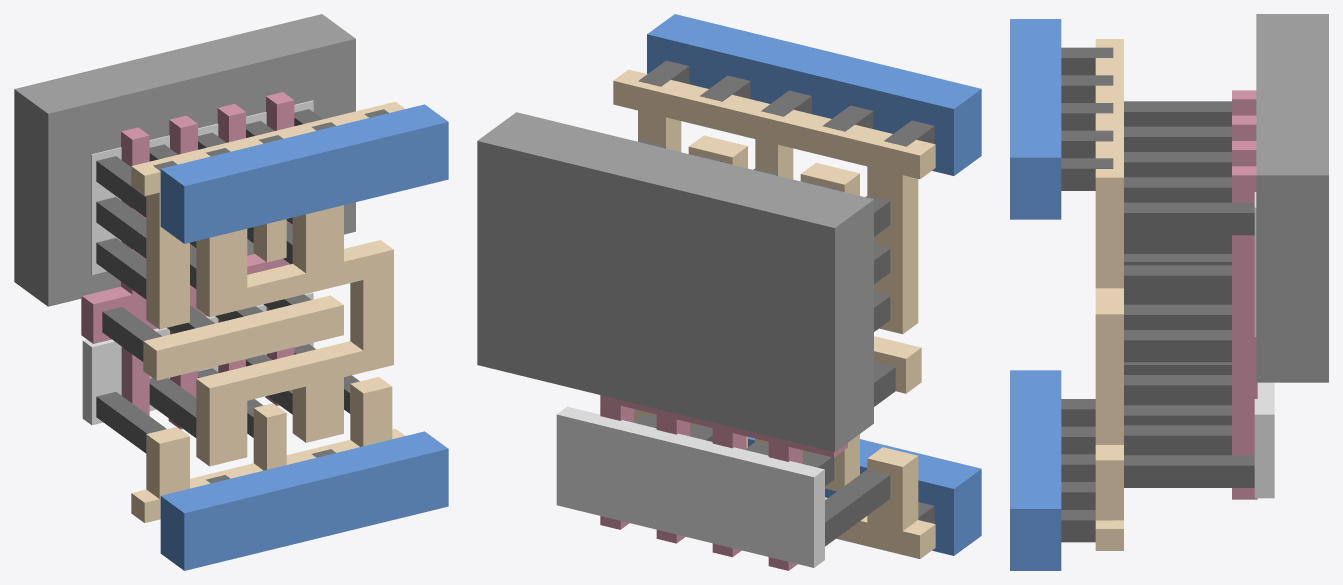
File: sky130_fd_sc_hd__inv_4.gds.gltf
3 views of the same model, side by side, from view 1: azimuth 30°, elevation 25°; view 2: azimuth 150°, elevation 25°; view 3: azimuth 270°, elevation 25° (orthographic). The views are drawn at different scales.
Parts seen in each view (by area): view 1: sky130_fd_sc_hd__inv_4_li1, sky130_fd_sc_hd__inv_4_met1, sky130_fd_sc_hd__inv_4_nwell, sky130_fd_sc_hd__inv_4_licon, sky130_fd_sc_hd__inv_4_poly, sky130_fd_sc_hd__inv_4_diff, sky130_fd_sc_hd__inv_4_mcon; view 2: sky130_fd_sc_hd__inv_4_nwell, sky130_fd_sc_hd__inv_4_li1, sky130_fd_sc_hd__inv_4_diff, sky130_fd_sc_hd__inv_4_met1, sky130_fd_sc_hd__inv_4_licon, sky130_fd_sc_hd__inv_4_poly, sky130_fd_sc_hd__inv_4_mcon; view 3: sky130_fd_sc_hd__inv_4_licon, sky130_fd_sc_hd__inv_4_nwell, sky130_fd_sc_hd__inv_4_met1, sky130_fd_sc_hd__inv_4_li1, sky130_fd_sc_hd__inv_4_mcon, sky130_fd_sc_hd__inv_4_poly, sky130_fd_sc_hd__inv_4_diff.
Boxes of the visible parts, x1,y1,x2,y2 form: sky130_fd_sc_hd__inv_4_li1: [131, 101, 404, 522]; sky130_fd_sc_hd__inv_4_met1: [160, 104, 448, 570]; sky130_fd_sc_hd__inv_4_nwell: [14, 14, 355, 306]; sky130_fd_sc_hd__inv_4_licon: [96, 109, 359, 453]; sky130_fd_sc_hd__inv_4_poly: [81, 92, 294, 429]; sky130_fd_sc_hd__inv_4_diff: [82, 100, 313, 425]; sky130_fd_sc_hd__inv_4_mcon: [153, 109, 388, 483]; sky130_fd_sc_hd__inv_4_nwell: [477, 112, 873, 452]; sky130_fd_sc_hd__inv_4_li1: [613, 69, 935, 558]; sky130_fd_sc_hd__inv_4_diff: [556, 406, 824, 567]; sky130_fd_sc_hd__inv_4_met1: [647, 14, 981, 555]; sky130_fd_sc_hd__inv_4_licon: [634, 141, 895, 546]; sky130_fd_sc_hd__inv_4_poly: [600, 395, 847, 570]; sky130_fd_sc_hd__inv_4_mcon: [638, 60, 934, 523]; sky130_fd_sc_hd__inv_4_licon: [1124, 101, 1254, 487]; sky130_fd_sc_hd__inv_4_nwell: [1256, 14, 1328, 382]; sky130_fd_sc_hd__inv_4_met1: [1010, 19, 1061, 570]; sky130_fd_sc_hd__inv_4_li1: [1095, 39, 1123, 550]; sky130_fd_sc_hd__inv_4_mcon: [1061, 47, 1113, 542]; sky130_fd_sc_hd__inv_4_poly: [1232, 90, 1257, 499]; sky130_fd_sc_hd__inv_4_diff: [1254, 192, 1274, 498].
Bounding box in the file's own units: 2.68 × 3.2 × 2.24.
